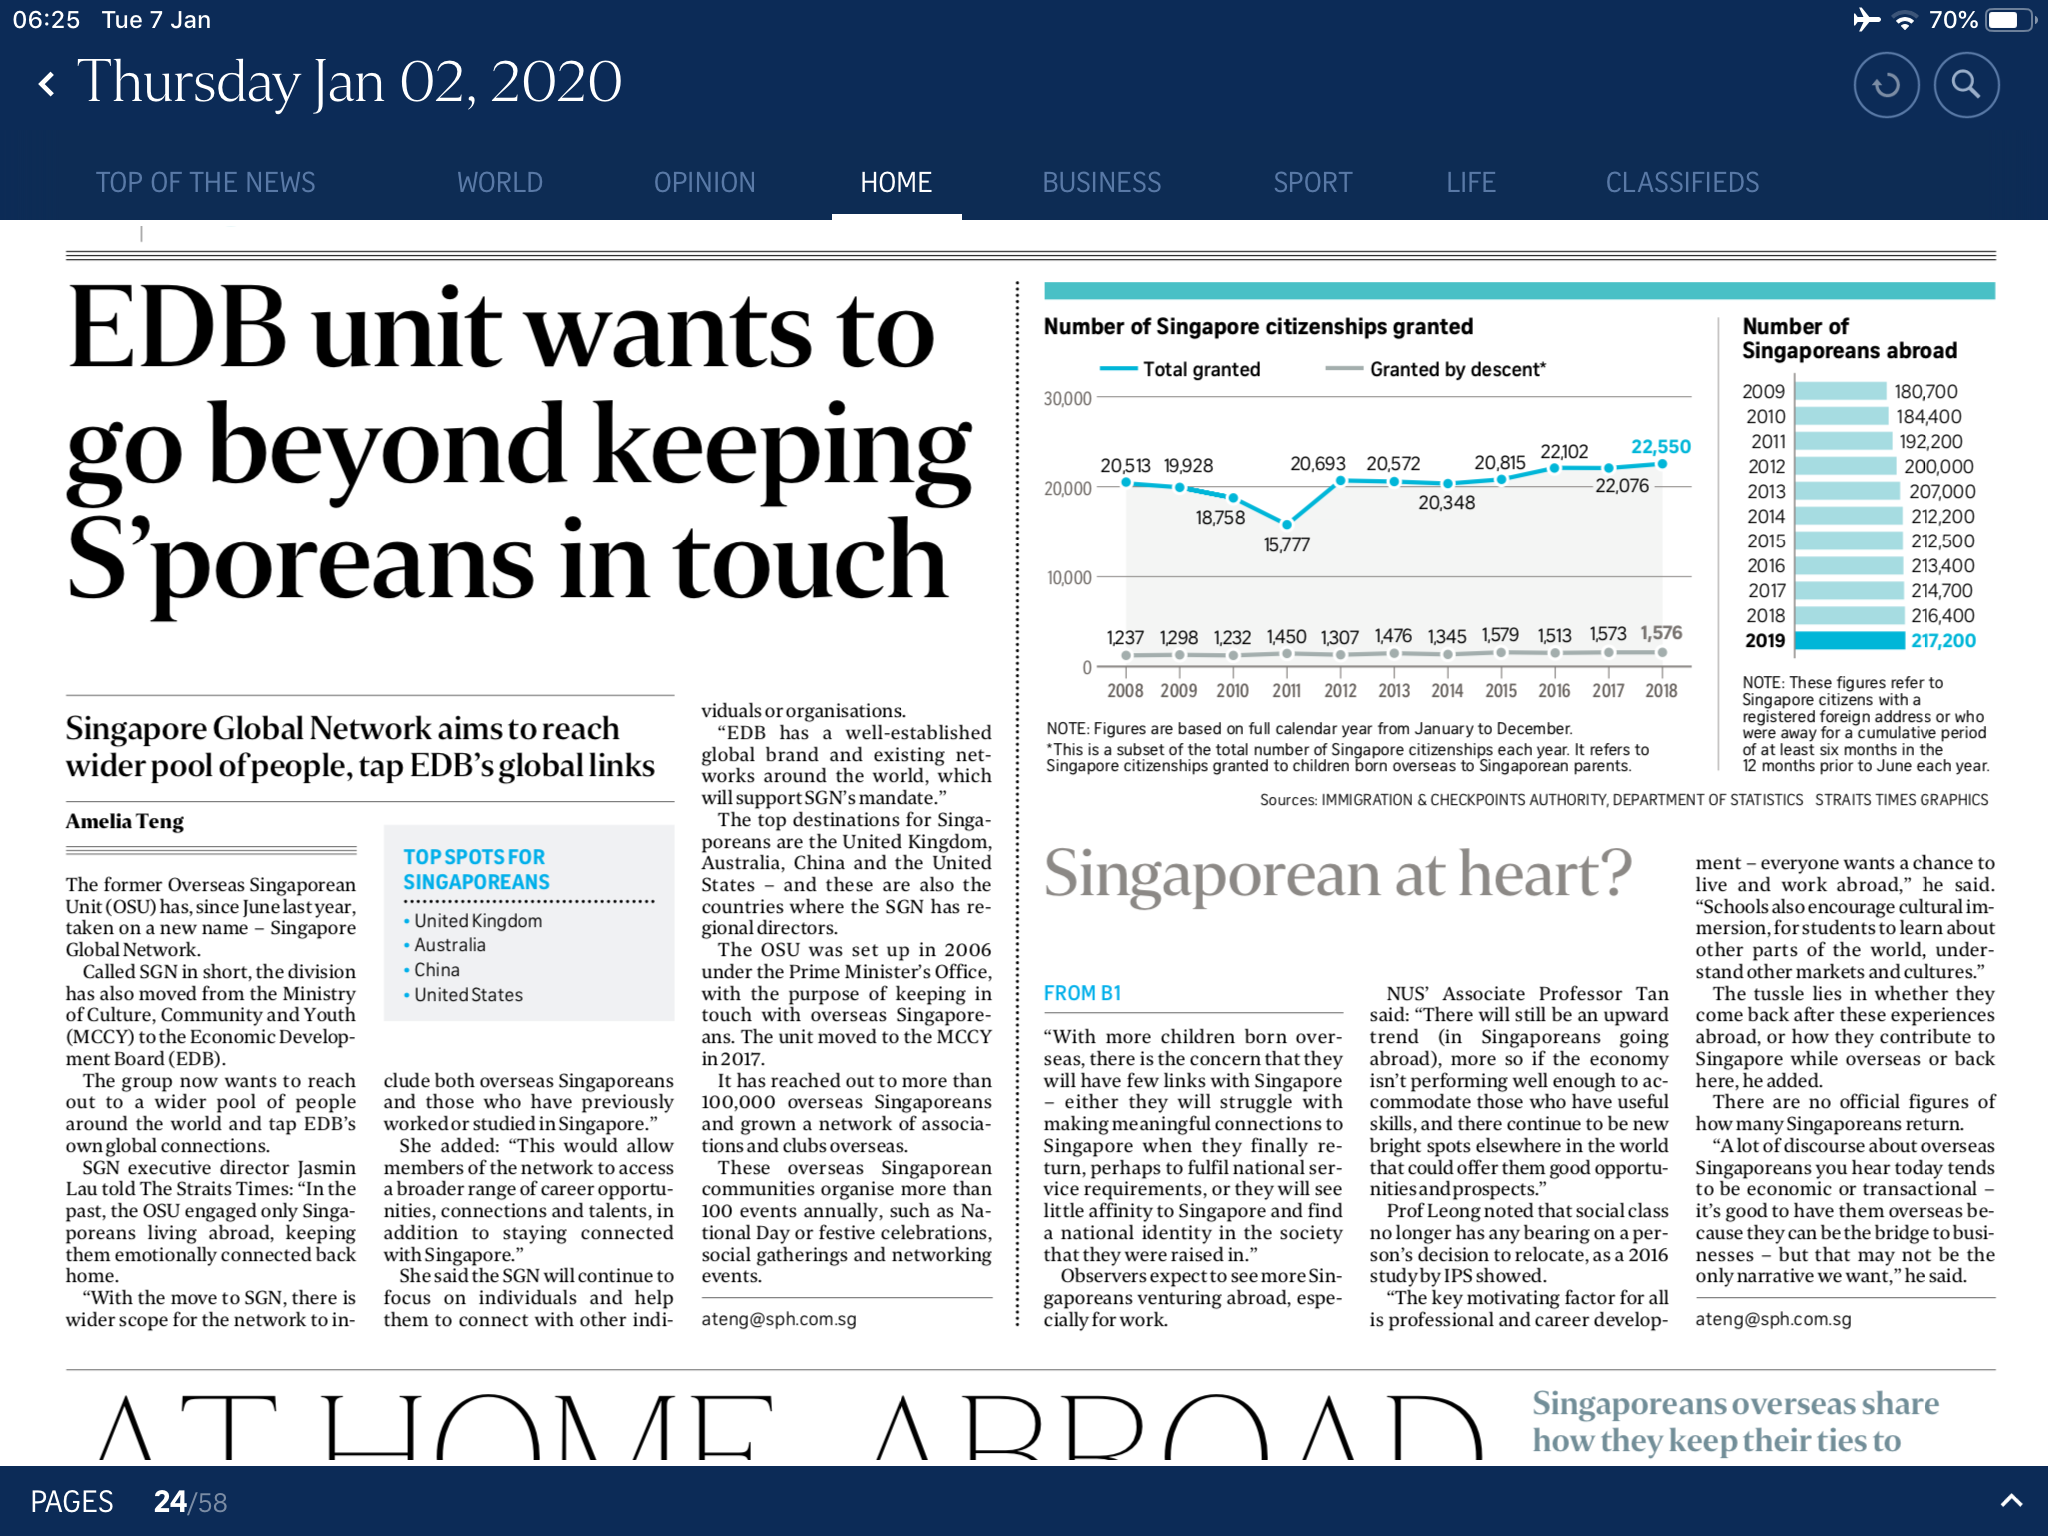Byline: (61, 808, 189, 836)
Headline: (56, 271, 980, 637), (1035, 834, 1640, 925)
Illustration: (1039, 715, 1658, 783), (1737, 670, 1996, 779), (1255, 787, 1996, 816)
Image: (1032, 307, 1713, 708), (1732, 369, 1996, 655)
Text: (692, 699, 1009, 1288), (60, 865, 368, 1344), (1687, 850, 2017, 1292), (1363, 983, 1677, 1341), (1035, 1025, 1347, 1339), (373, 1062, 685, 1339), (61, 707, 663, 783)
